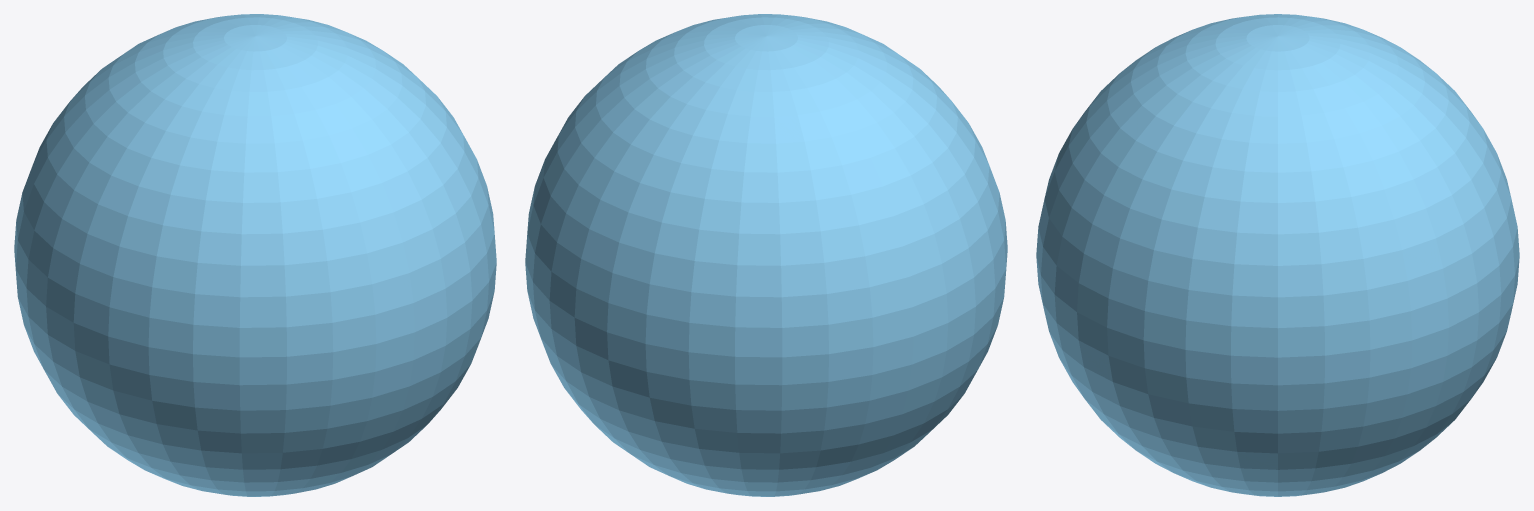
The model's file is ShieldBubble.fbx.
3 renders of one model, left to right at view 1: azimuth 30°, elevation 25°; view 2: azimuth 150°, elevation 25°; view 3: azimuth 270°, elevation 25°, orthographic.
Parts seen in each view (by area): view 1: ShieldBubble; view 2: ShieldBubble; view 3: ShieldBubble.
Part boxes in pixels (x1,y1,x2,y2): ShieldBubble: [14, 14, 496, 496]; ShieldBubble: [525, 14, 1007, 496]; ShieldBubble: [1036, 14, 1519, 496].
Size of the model in its own units: 1 by 1 by 1.
